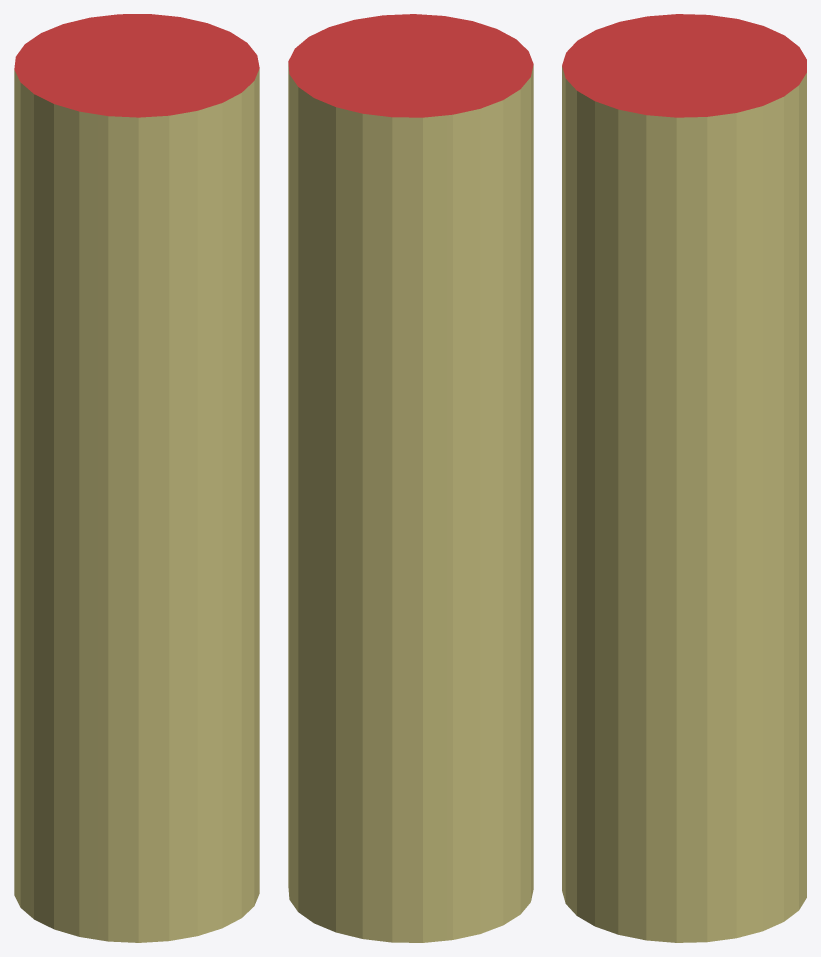
3 renders of one model, left to right at view 1: azimuth 30°, elevation 25°; view 2: azimuth 150°, elevation 25°; view 3: azimuth 270°, elevation 25°, orthographic.
Size of the model in its own units: 3.67 by 3.66 by 13.62.
